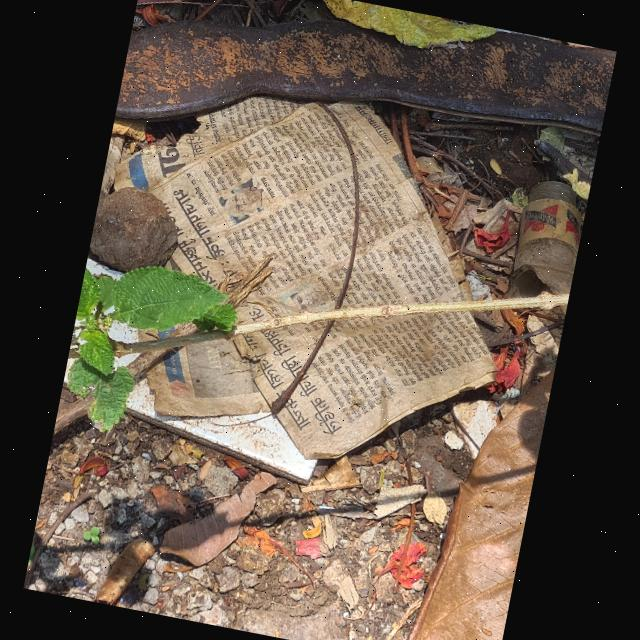trash: (54, 53, 546, 516)
